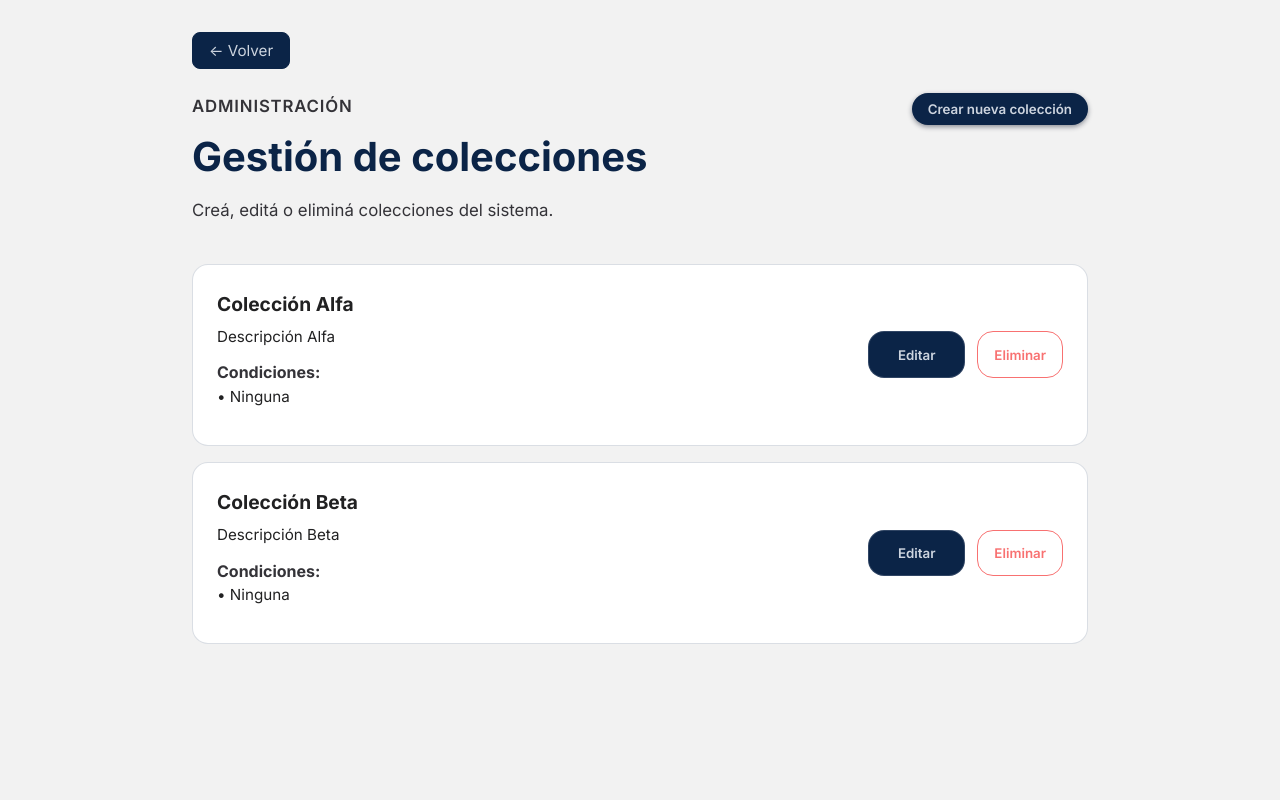
Test case: GestionColecciones › modal de creacion › abre el modal al hacer click en "Crear nueva colección"
Step 1. Click the button "Crear nueva colección" → (1000, 109), box top-left (912, 93), bottom-right (1088, 125)
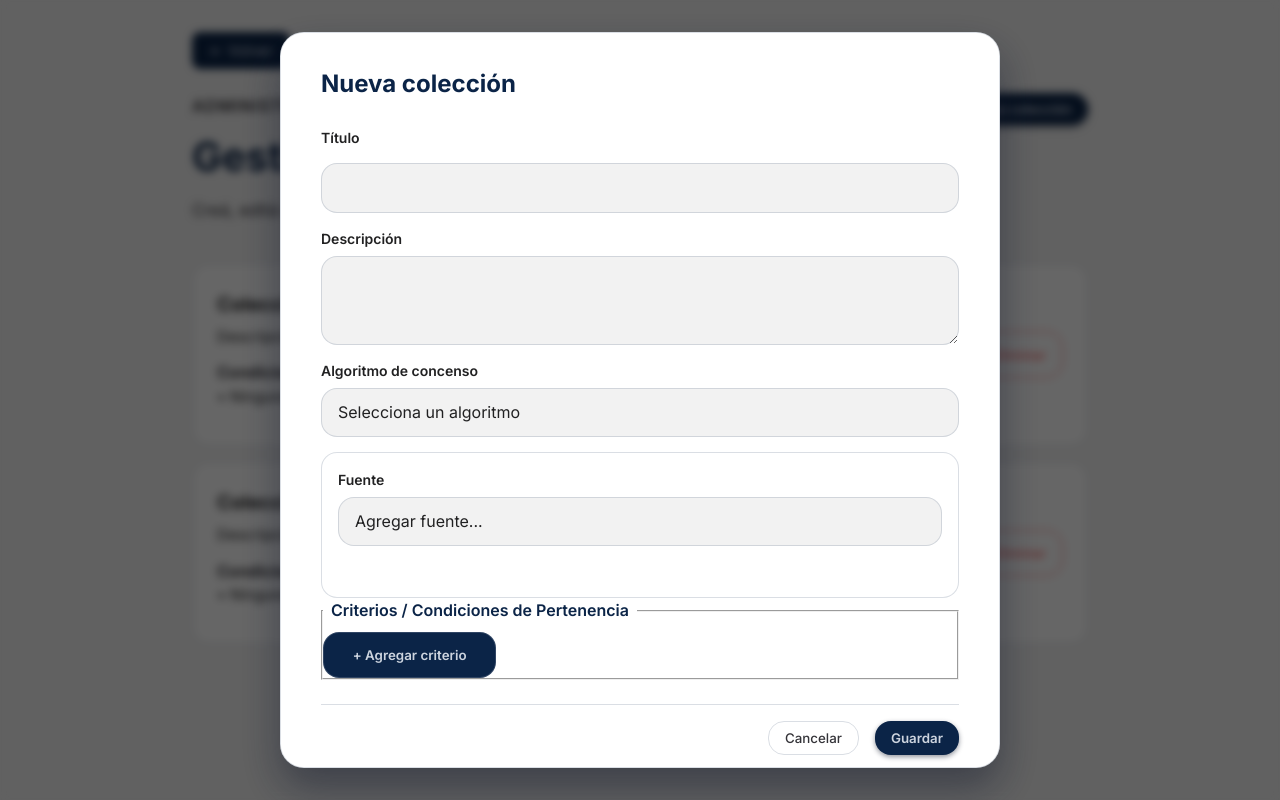
Check: the heading "Nueva colección" is shown, box top-left (321, 69), bottom-right (516, 98)
